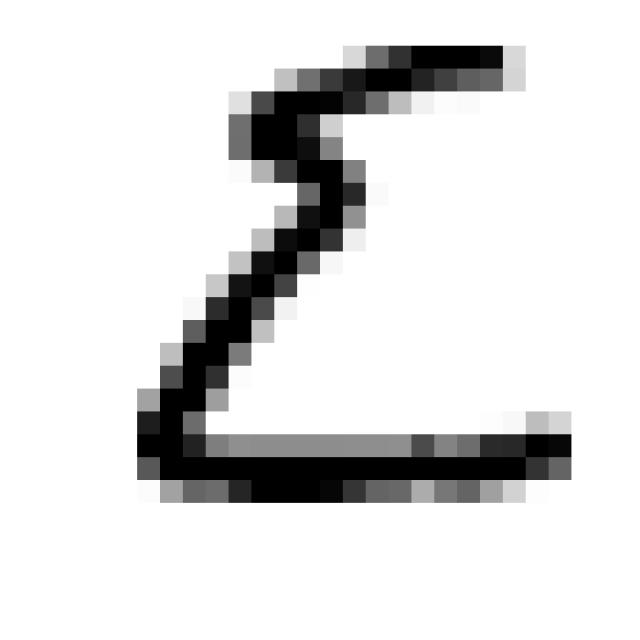4 -four-: (114, 21, 594, 520)
